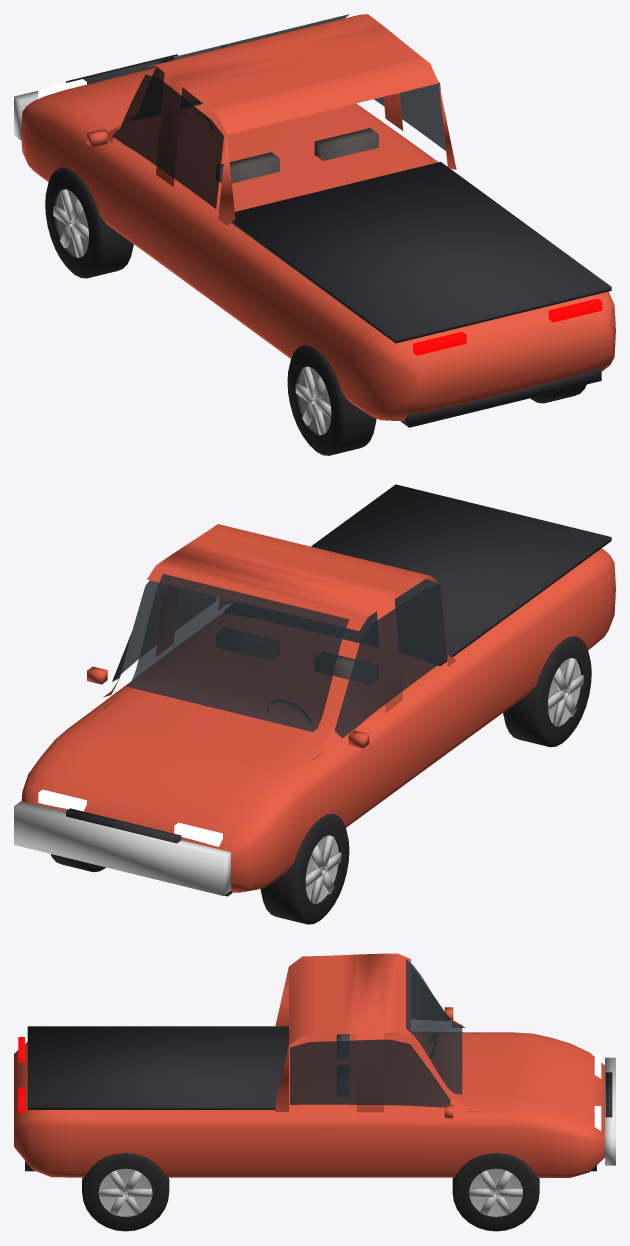
The model's file is car09_haulmark.glb.
The picture shows the model from 3 angles, top to bottom: view 1: azimuth 30°, elevation 25°; view 2: azimuth 150°, elevation 25°; view 3: azimuth 270°, elevation 25°; orthographic projection. The views are drawn at different scales.
Visible parts, largest first — view 1: car09_haulmark_Body, car09_haulmark_Cabin, car09_haulmark_Glass, car09_haulmark_Wheel_RL, car09_haulmark_Wheel_FL, car09_haulmark_Interior, car09_haulmark_Lights_Rear, car09_haulmark_GlassFront; view 2: car09_haulmark_Body, car09_haulmark_GlassFront, car09_haulmark_Cabin, car09_haulmark_Glass, car09_haulmark_Wheel_RL, car09_haulmark_Wheel_FL, car09_haulmark_Interior, car09_haulmark_Lights_Front; view 3: car09_haulmark_Body, car09_haulmark_Cabin, car09_haulmark_Glass, car09_haulmark_Wheel_RR, car09_haulmark_Wheel_FR, car09_haulmark_GlassFront, car09_haulmark_Interior.
Part boxes in pixels (x1,y1,x2,y2): car09_haulmark_Body: (14, 46, 615, 427); car09_haulmark_Cabin: (107, 14, 456, 225); car09_haulmark_Glass: (112, 74, 445, 208); car09_haulmark_Wheel_RL: (287, 345, 376, 455); car09_haulmark_Wheel_FL: (45, 167, 133, 278); car09_haulmark_Interior: (103, 128, 378, 183); car09_haulmark_Lights_Rear: (413, 298, 602, 355); car09_haulmark_GlassFront: (131, 14, 349, 120); car09_haulmark_Body: (14, 484, 615, 896); car09_haulmark_GlassFront: (126, 574, 349, 731); car09_haulmark_Cabin: (103, 524, 456, 753); car09_haulmark_Glass: (112, 580, 447, 738); car09_haulmark_Wheel_RL: (503, 636, 591, 747); car09_haulmark_Wheel_FL: (260, 813, 349, 924); car09_haulmark_Interior: (103, 628, 378, 759); car09_haulmark_Lights_Front: (38, 789, 222, 846); car09_haulmark_Body: (14, 1007, 615, 1177); car09_haulmark_Cabin: (275, 953, 465, 1113); car09_haulmark_Glass: (290, 992, 450, 1107); car09_haulmark_Wheel_RR: (82, 1153, 169, 1231); car09_haulmark_Wheel_FR: (452, 1153, 539, 1231); car09_haulmark_GlassFront: (406, 959, 462, 1094); car09_haulmark_Interior: (336, 1033, 478, 1111).
Size of what is drawn, in the model's own units: 2.24 by 1.95 by 5.52.
